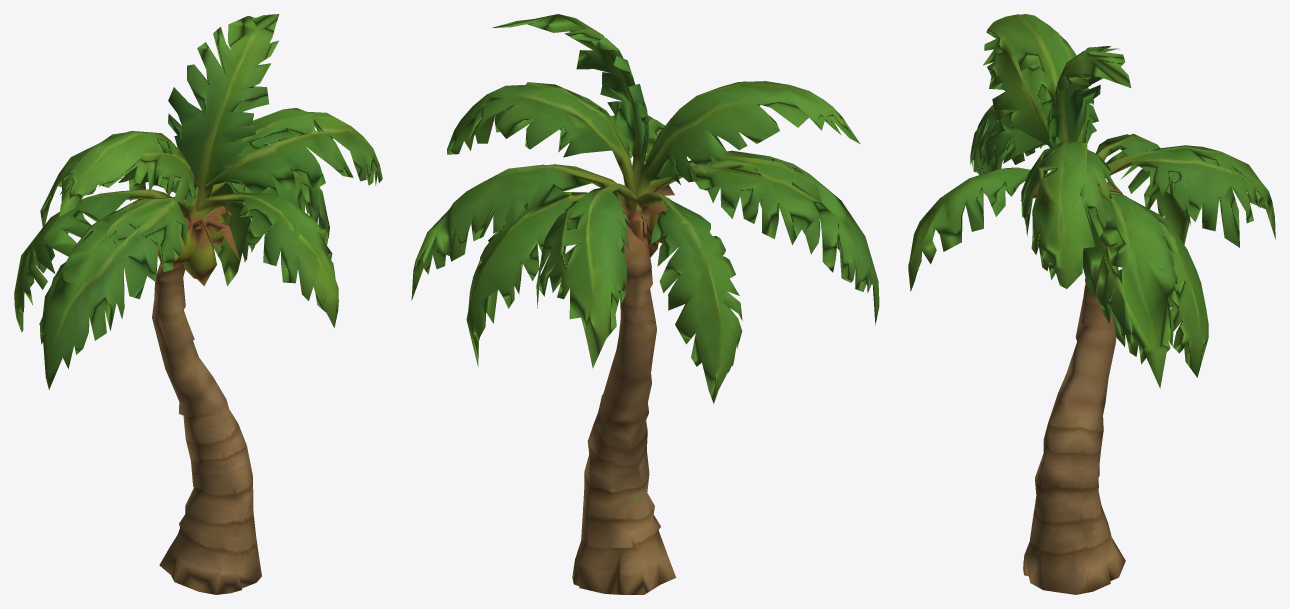
Rendered from palm.glb.
3 views of the same model, side by side, from view 1: azimuth 30°, elevation 25°; view 2: azimuth 150°, elevation 25°; view 3: azimuth 270°, elevation 25° (orthographic). The views are drawn at different scales.
Parts seen in each view (by area): view 1: tripo_node_fa56b503-2dfd-4200-b275-c1aceabfc3d9; view 2: tripo_node_fa56b503-2dfd-4200-b275-c1aceabfc3d9; view 3: tripo_node_fa56b503-2dfd-4200-b275-c1aceabfc3d9.
Boxes of the visible parts, x1,y1,x2,y2 form: tripo_node_fa56b503-2dfd-4200-b275-c1aceabfc3d9: [14, 14, 382, 594]; tripo_node_fa56b503-2dfd-4200-b275-c1aceabfc3d9: [411, 14, 879, 594]; tripo_node_fa56b503-2dfd-4200-b275-c1aceabfc3d9: [908, 14, 1275, 594].
Size of the model in its own units: 0.7329 by 0.9961 by 0.6097.
Materials: 1 (1 with a texture image).
